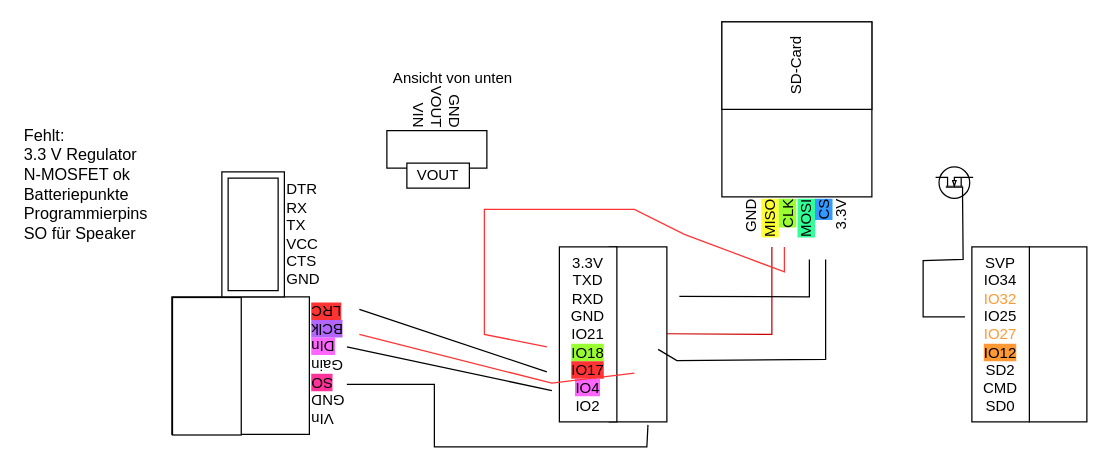
This 1109x470 diagram has some shape labels left out. Here are the shapes that lost their labels. From the top down, the box of each, then its label:
(227, 177, 278, 291): FTDI
(608, 246, 667, 422): GND EN IO23 IO22 IO19 IO5 IO16 IO0 IO15
(1028, 246, 1087, 422): SVN IO35 IO33 IO26 IO14 IO13 SD3 CLK SDI
(171, 296, 241, 435): Speaker
